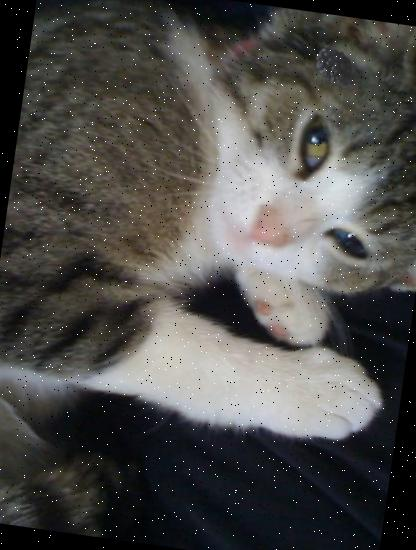Mulberry: (304, 37, 364, 98)
